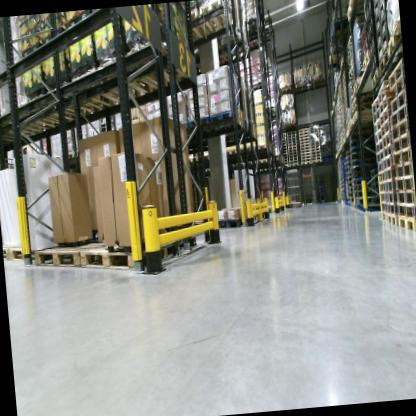pallet: (78, 232, 192, 282), (126, 37, 193, 97), (93, 58, 162, 106), (31, 235, 115, 272), (30, 88, 82, 136), (73, 68, 126, 113), (198, 0, 240, 47), (3, 106, 50, 147), (182, 5, 216, 50), (9, 243, 57, 268), (208, 108, 245, 137), (188, 114, 222, 142), (385, 57, 406, 92), (386, 19, 403, 60), (387, 74, 407, 105), (243, 12, 262, 43), (395, 196, 416, 222), (389, 103, 409, 128), (390, 117, 410, 142), (347, 0, 369, 22), (391, 131, 411, 155), (389, 90, 407, 115), (377, 81, 393, 107), (352, 109, 375, 127), (377, 47, 391, 76), (392, 146, 412, 166), (395, 188, 416, 207), (396, 214, 416, 233), (394, 175, 415, 193), (394, 162, 414, 180), (251, 141, 273, 157), (354, 194, 380, 207), (383, 176, 399, 196), (376, 97, 391, 118), (350, 96, 374, 109), (351, 103, 373, 117), (378, 108, 392, 129), (235, 145, 255, 158), (383, 166, 397, 184), (382, 152, 394, 173), (361, 49, 371, 74), (373, 128, 385, 148), (356, 203, 377, 214), (381, 132, 393, 150), (352, 77, 364, 95), (372, 117, 383, 136), (371, 67, 380, 90), (350, 92, 367, 104), (386, 212, 399, 227), (379, 121, 391, 137), (385, 191, 399, 204), (370, 97, 380, 115), (373, 141, 385, 156), (380, 146, 393, 159), (386, 203, 400, 215), (345, 32, 356, 47), (376, 150, 386, 165), (372, 108, 381, 124), (224, 149, 239, 158), (3, 244, 11, 260), (246, 158, 258, 168), (348, 65, 358, 77), (377, 173, 386, 186), (378, 182, 387, 195), (294, 81, 307, 90), (235, 160, 247, 169), (381, 210, 389, 223), (380, 202, 389, 213), (322, 156, 333, 164), (258, 156, 270, 163), (377, 161, 384, 173), (378, 192, 385, 203), (348, 119, 355, 130), (282, 85, 293, 92), (348, 58, 354, 70), (349, 73, 356, 83), (351, 87, 358, 96), (350, 79, 356, 89), (348, 53, 353, 65), (347, 46, 353, 56), (312, 159, 322, 165), (300, 152, 312, 157), (286, 137, 298, 142), (309, 135, 320, 140), (288, 154, 299, 159), (287, 130, 296, 136), (310, 138, 320, 143), (309, 125, 319, 130), (310, 148, 322, 152), (298, 129, 310, 133), (301, 162, 313, 166), (311, 157, 322, 161), (311, 154, 322, 158), (311, 151, 322, 155), (309, 132, 320, 136), (299, 138, 310, 142), (300, 150, 311, 154), (310, 145, 320, 149), (309, 129, 319, 133), (298, 132, 308, 136), (300, 141, 310, 145), (300, 144, 310, 148), (300, 147, 310, 151), (301, 159, 311, 163), (301, 156, 311, 160), (289, 158, 299, 162), (288, 151, 298, 155), (287, 144, 297, 148), (287, 147, 298, 150), (287, 135, 298, 138), (310, 142, 320, 145), (298, 136, 308, 139), (289, 164, 299, 167), (289, 161, 299, 164), (288, 149, 298, 152), (287, 141, 297, 144), (282, 132, 287, 138), (283, 161, 288, 166), (283, 156, 287, 160), (283, 150, 288, 153), (283, 153, 288, 156), (282, 137, 286, 140), (283, 147, 287, 150), (284, 159, 288, 162), (283, 140, 286, 143), (283, 143, 286, 146), (284, 165, 288, 167), (283, 145, 286, 147)
